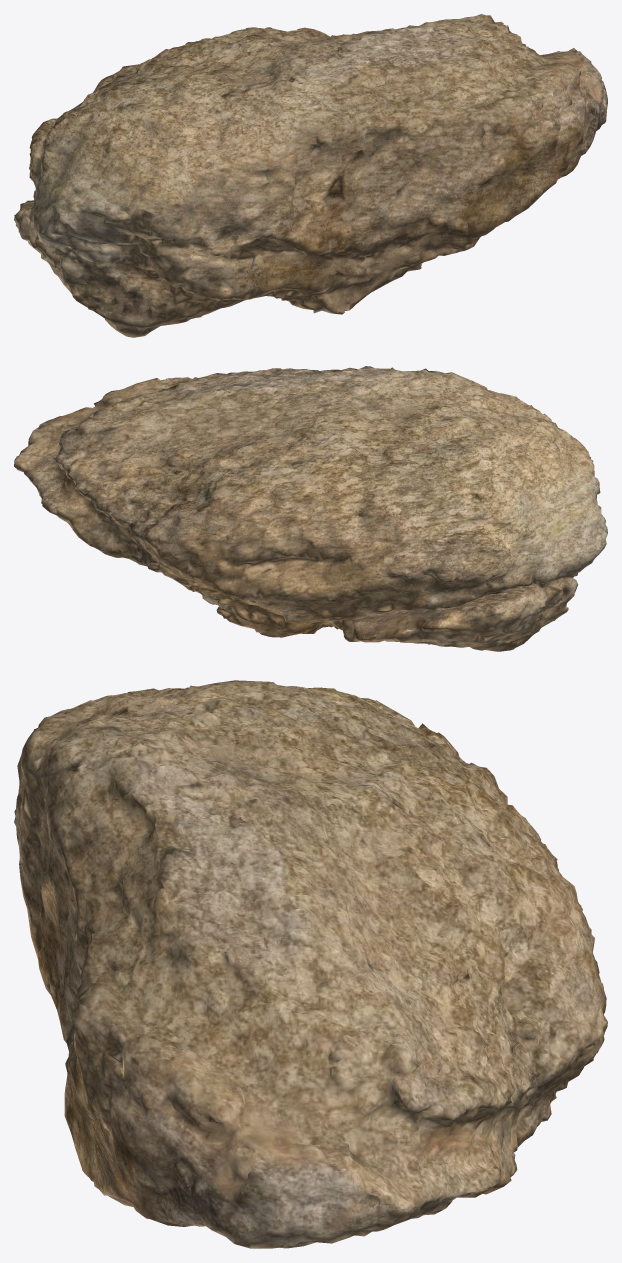
The model's file is namaqualand_boulder_05.glb.
The picture shows the model from 3 angles, top to bottom: view 1: azimuth 30°, elevation 25°; view 2: azimuth 150°, elevation 25°; view 3: azimuth 270°, elevation 25°; orthographic projection. The views are drawn at different scales.
Visible parts, largest first — view 1: namaqualand_boulder_05; view 2: namaqualand_boulder_05; view 3: namaqualand_boulder_05.
Part boxes in pixels (x1=…): namaqualand_boulder_05: x1=14, y1=14, x2=607, y2=337; namaqualand_boulder_05: x1=14, y1=366, x2=607, y2=651; namaqualand_boulder_05: x1=14, y1=680, x2=607, y2=1248.
Bounding box in the file's own units: 1.36 × 0.5362 × 0.7481.
1 material, 1 textured.
